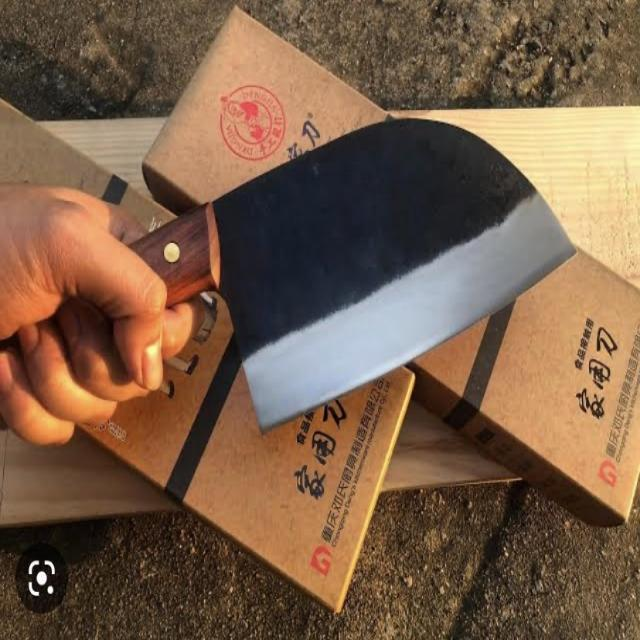Knife: (3, 110, 580, 453)
